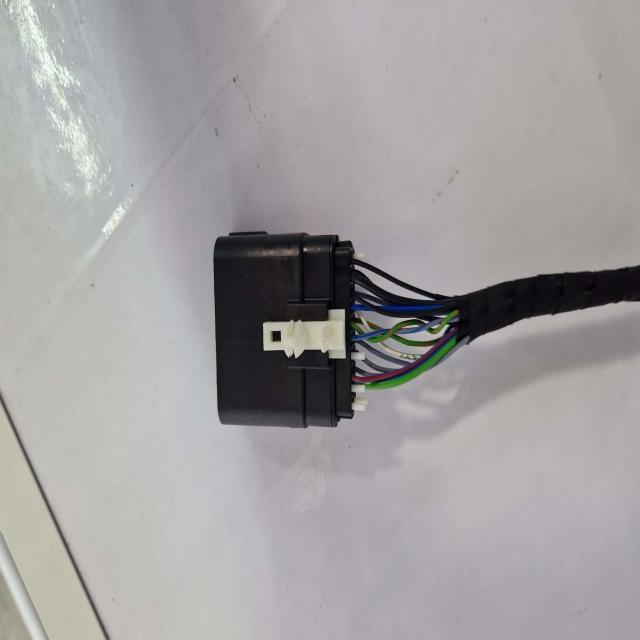Connector: (212, 239, 363, 435)
Gape: (346, 245, 456, 402)
MHEV_N11_Cable: (456, 265, 640, 341), (481, 287, 482, 289)
